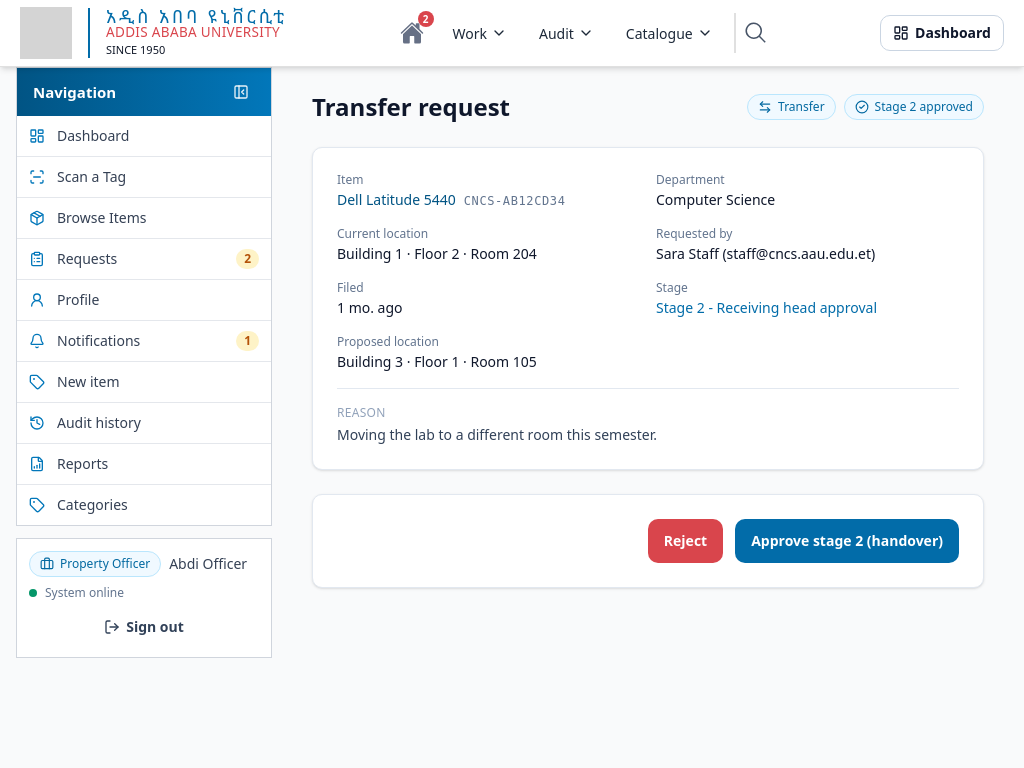
/requests/:id — the decision surface › says stage 2 is the handover, and that it moves the item
Click the button "Approve stage 2 (handover)": (847,541) [735, 519, 959, 563]
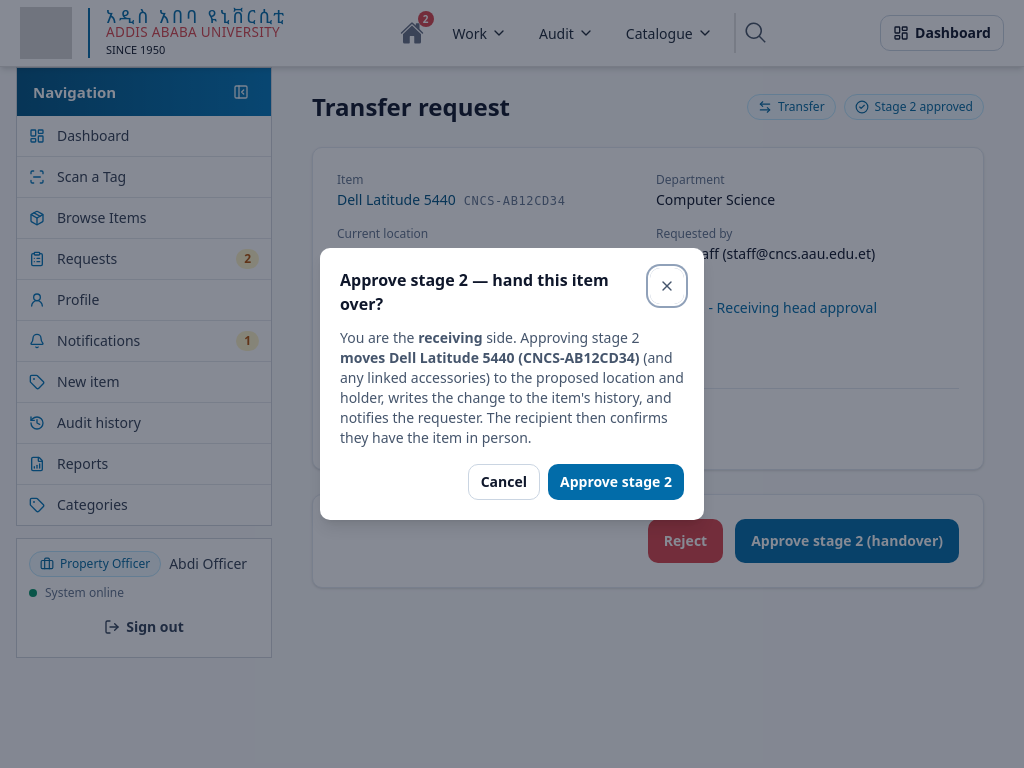
Check: the text "receiving" is shown, box [418, 328, 482, 347]
Check: the text "moves" is shown, box [340, 348, 385, 367]
